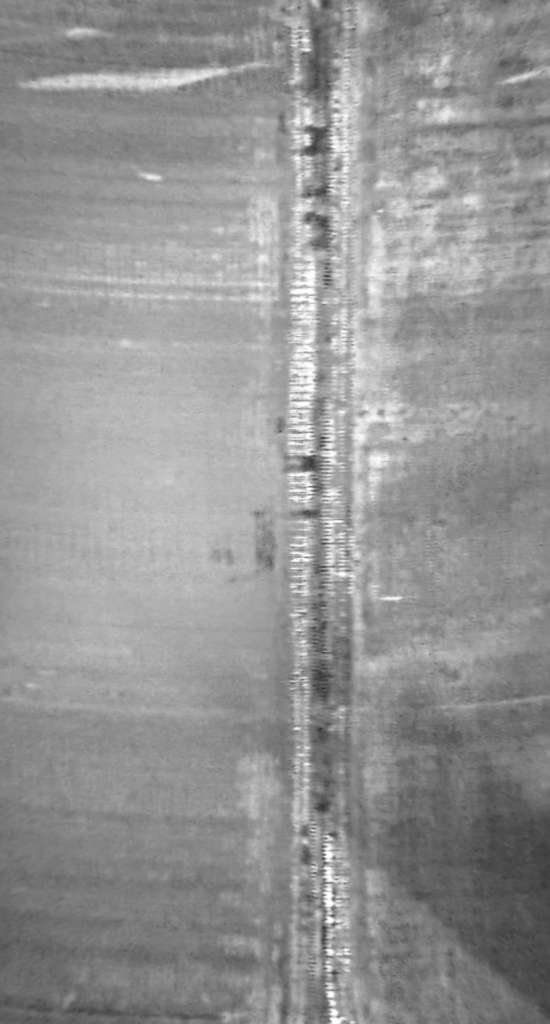splice: (277, 5, 373, 1024)
